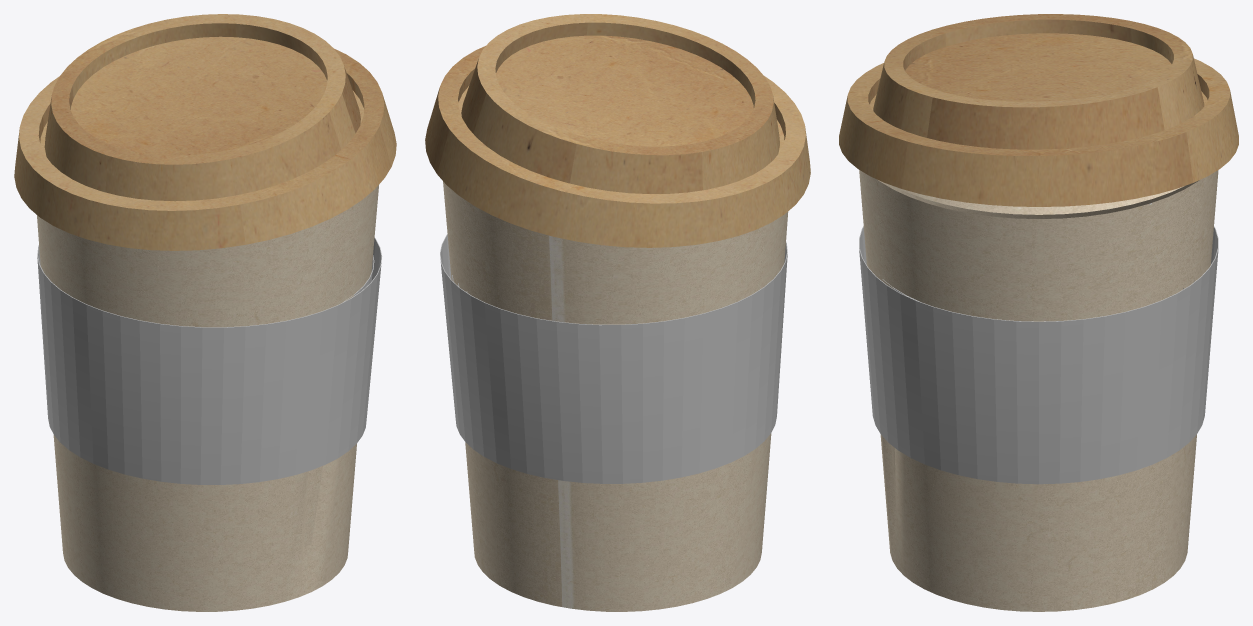
The model's file is UnPerfectCupSketchfab2.fbx.
3 renders of one model, left to right at view 1: azimuth 30°, elevation 25°; view 2: azimuth 150°, elevation 25°; view 3: azimuth 270°, elevation 25°, orthographic. The views are drawn at different scales.
Parts seen in each view (by area): view 1: Lid, Cup, Label; view 2: Lid, Cup, Label; view 3: Cup, Lid, Label.
Boxes of the visible parts, x1,y1,x2,y2 form: Lid: [14, 14, 396, 250]; Cup: [37, 184, 379, 611]; Label: [37, 237, 382, 484]; Lid: [425, 14, 810, 247]; Cup: [443, 181, 788, 611]; Label: [440, 234, 787, 483]; Cup: [859, 170, 1218, 611]; Lid: [839, 14, 1238, 206]; Label: [859, 226, 1218, 484].
Size of the model in its own units: 54.8 by 76.29 by 54.95.
